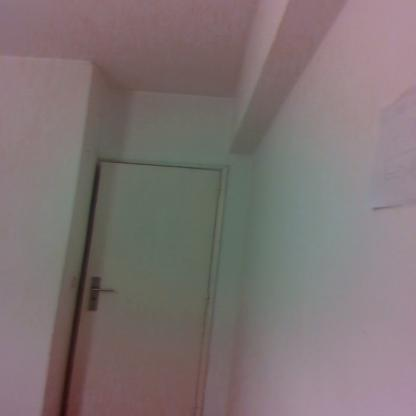door: (83, 160, 201, 415)
hinged: (216, 181, 222, 198), (204, 290, 210, 306), (192, 401, 198, 415)
lever: (91, 288, 116, 292)
